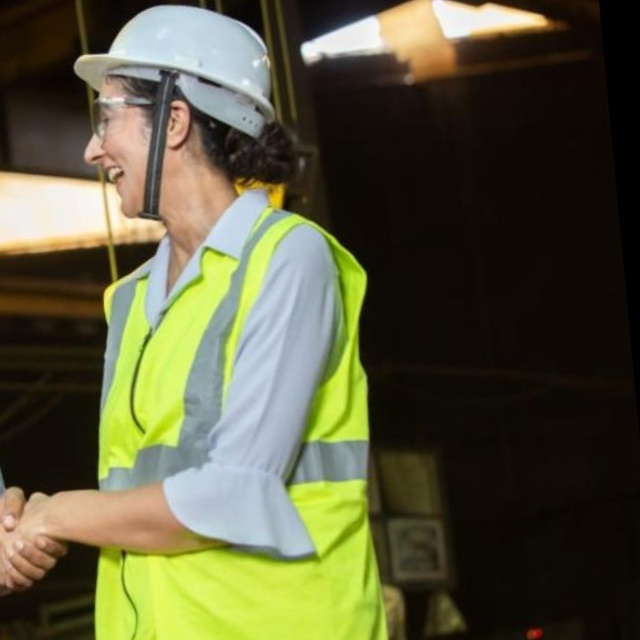Con_Casco: (69, 0, 288, 220)
Con_Chaleco: (48, 210, 402, 640)
